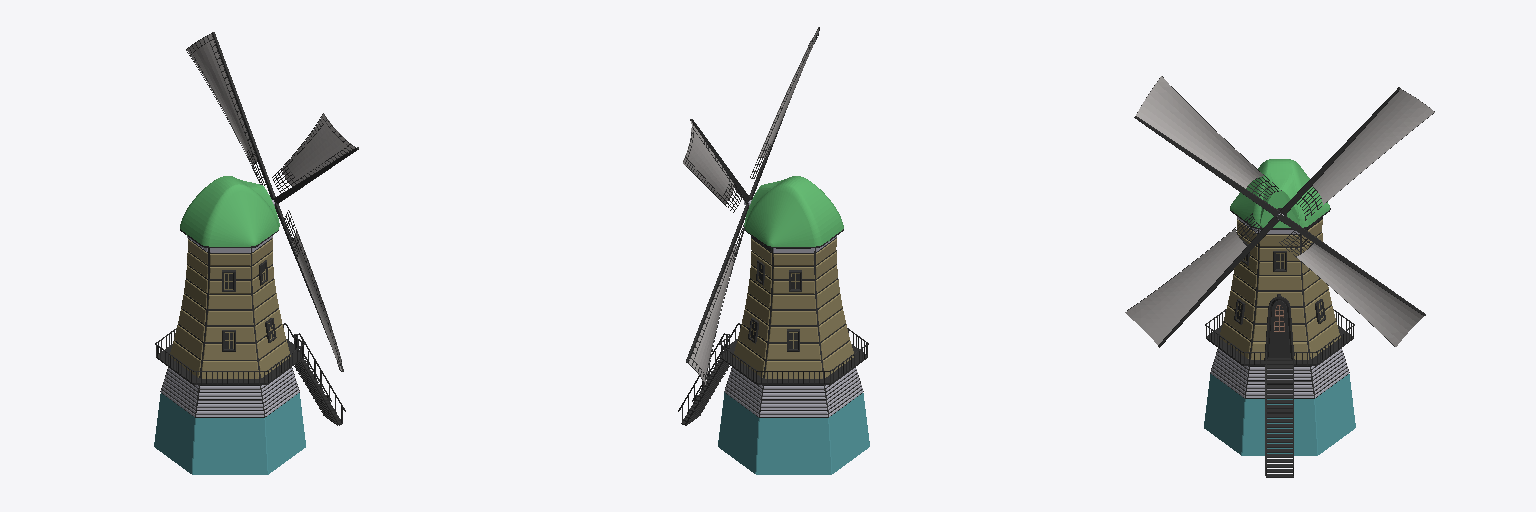
Rendered from farm_mill.obj.
The picture shows the model from 3 angles: view 1: azimuth 30°, elevation 25°; view 2: azimuth 150°, elevation 25°; view 3: azimuth 270°, elevation 25°; orthographic projection.
Visible parts, largest first — view 1: NGon001; view 2: NGon001; view 3: NGon001.
Boxes of the visible parts, x1,y1,x2,y2 form: NGon001: [154, 32, 358, 474]; NGon001: [678, 27, 869, 474]; NGon001: [1125, 76, 1434, 477].
Bounding box in the file's own units: 3.29 × 6.97 × 5.33.